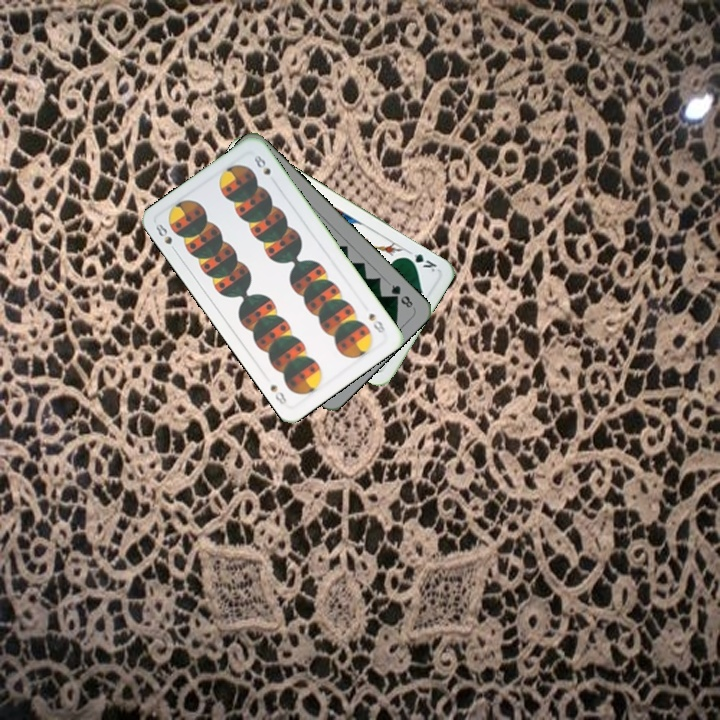G8: (387, 280, 416, 311)
GK: (401, 246, 440, 274)
S8: (151, 220, 180, 256), (364, 309, 389, 336)
